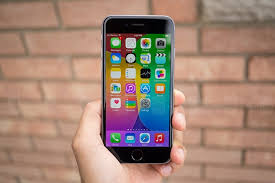iphone: (98, 12, 177, 165)
iphone6: (99, 12, 178, 165)
